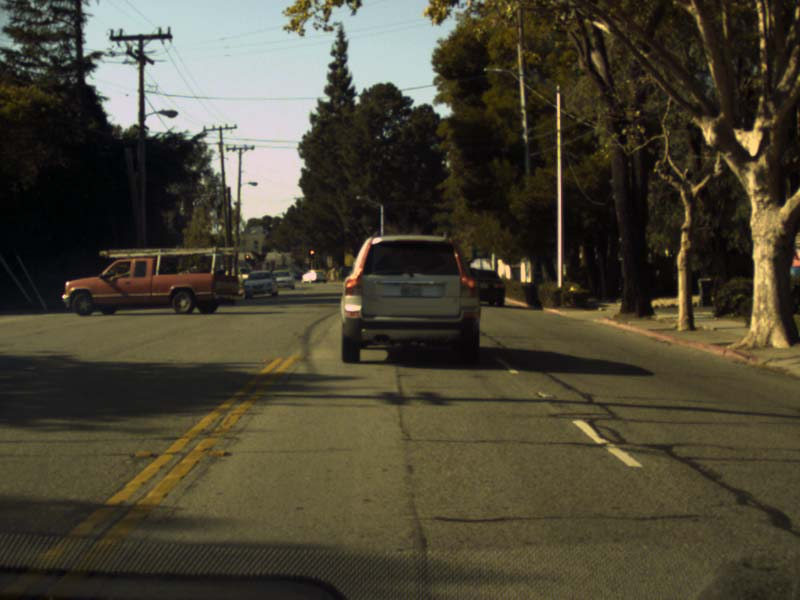Red: (308, 248, 314, 257), (244, 255, 249, 259)
